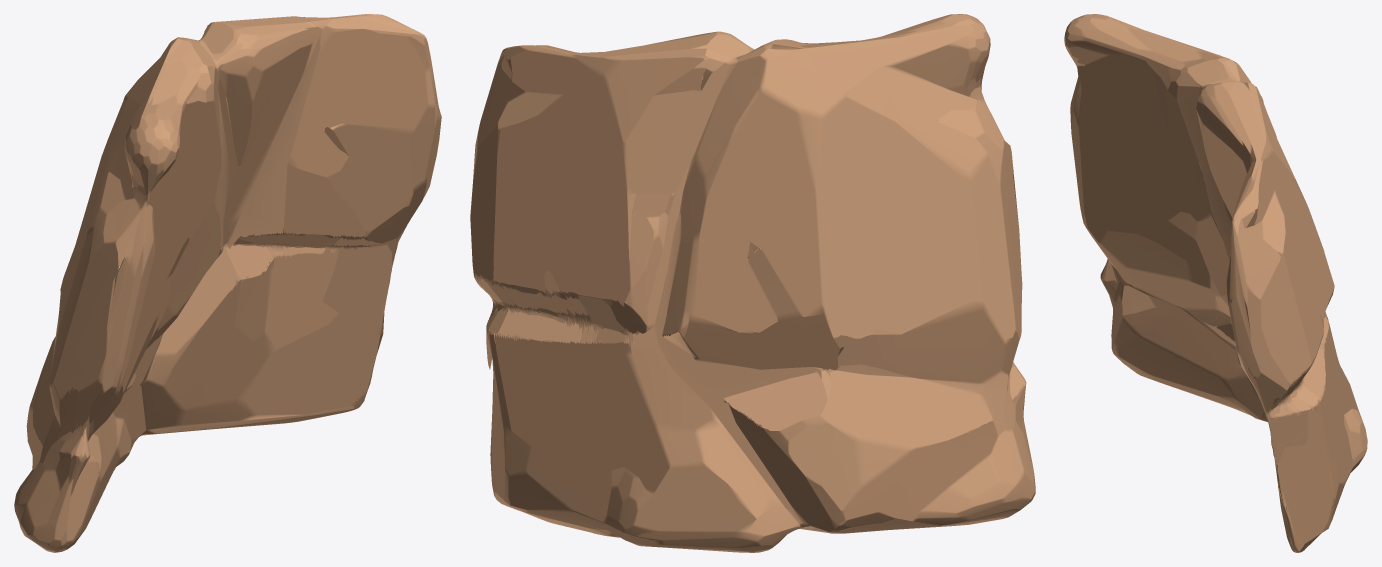
The picture shows the model from 3 angles, left to right: view 1: azimuth 30°, elevation 25°; view 2: azimuth 150°, elevation 25°; view 3: azimuth 270°, elevation 25°; orthographic projection. The views are drawn at different scales.
Visible parts, largest first — view 1: Mesh_88_LOD0; view 2: Mesh_88_LOD0; view 3: Mesh_88_LOD0.
Boxes of the visible parts, left/top/right/bottom form: Mesh_88_LOD0: left=14, top=14, right=441, bottom=552; Mesh_88_LOD0: left=470, top=14, right=1035, bottom=552; Mesh_88_LOD0: left=1064, top=14, right=1367, bottom=552.
Size of what is drawn, in the model's own units: 1794 by 1676 by 1138.
